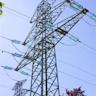power_tower: (16, 0, 87, 96)
